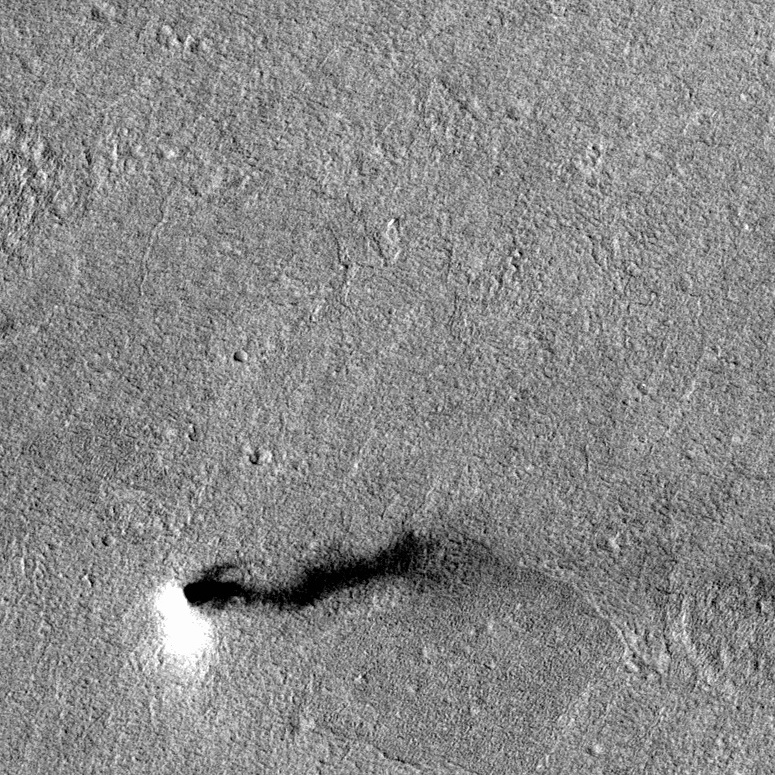dust_devil: (148, 524, 457, 674)
